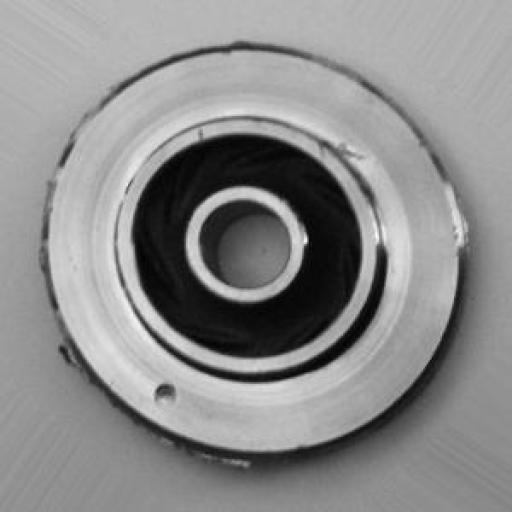defect: (21, 26, 492, 470), (289, 108, 382, 206), (137, 353, 208, 441)
